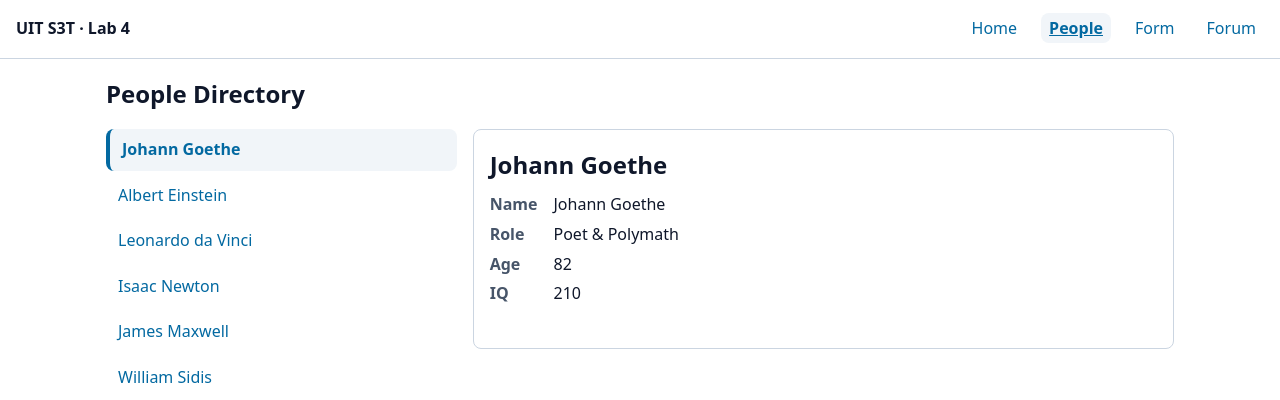
Scenario: Sprint 1 — People master-detail routes › navigates between people without a full reload
Expected: the heading "Johann Goethe" is shown, [490,148,667,181]
What coordinates should you click on to do the following:
click the link "Isaac Newton"
I would click on:
 (169, 286)
Its box is [118,275,220,297].
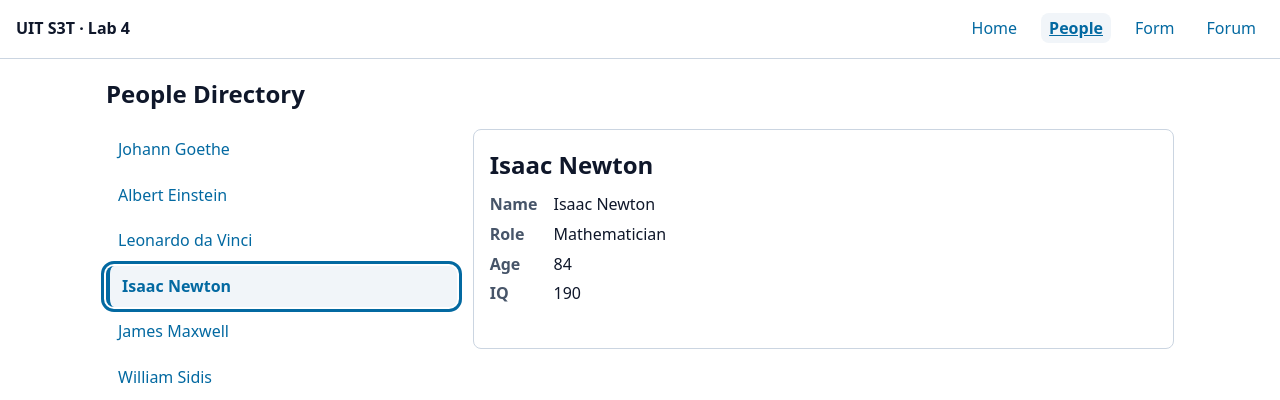
Expected: the heading "Isaac Newton" is shown, [490,148,653,181]
